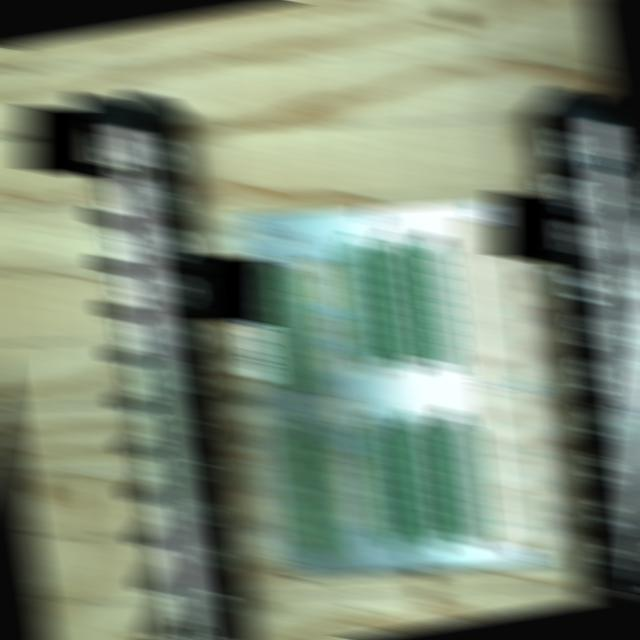Flathead_Block: (73, 85, 240, 640)
Terminal_1: (264, 264, 318, 395), (286, 427, 339, 556)
Terminal_2: (362, 426, 416, 550), (341, 241, 393, 366), (377, 239, 429, 363), (401, 423, 452, 546), (439, 421, 489, 543)
